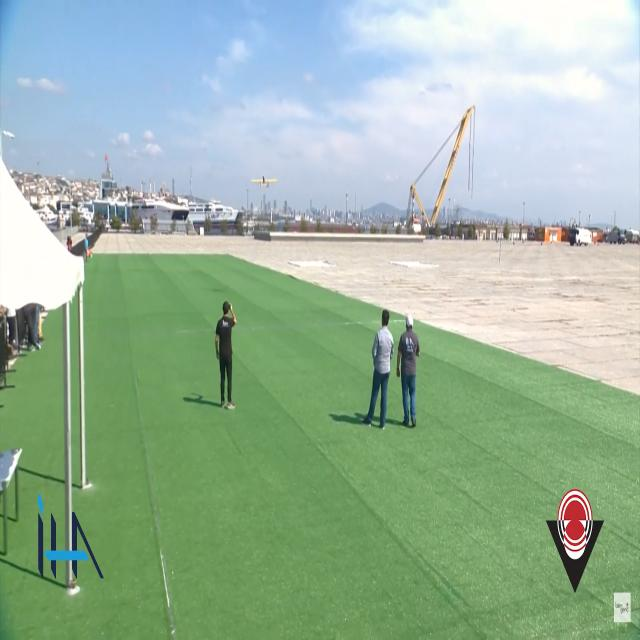iha: (245, 174, 272, 189)
